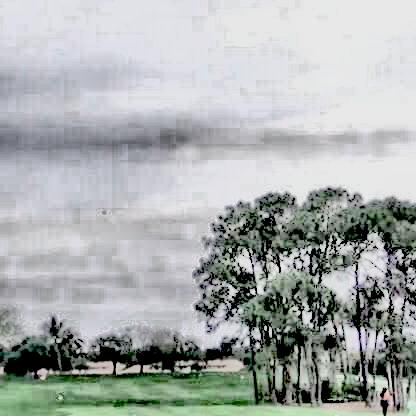golfball: (99, 206, 103, 213)
